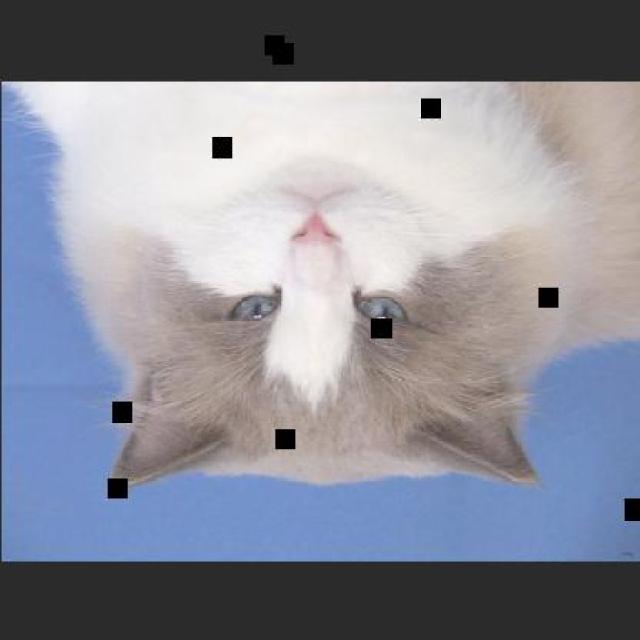unauthorized: (0, 80, 638, 491)
